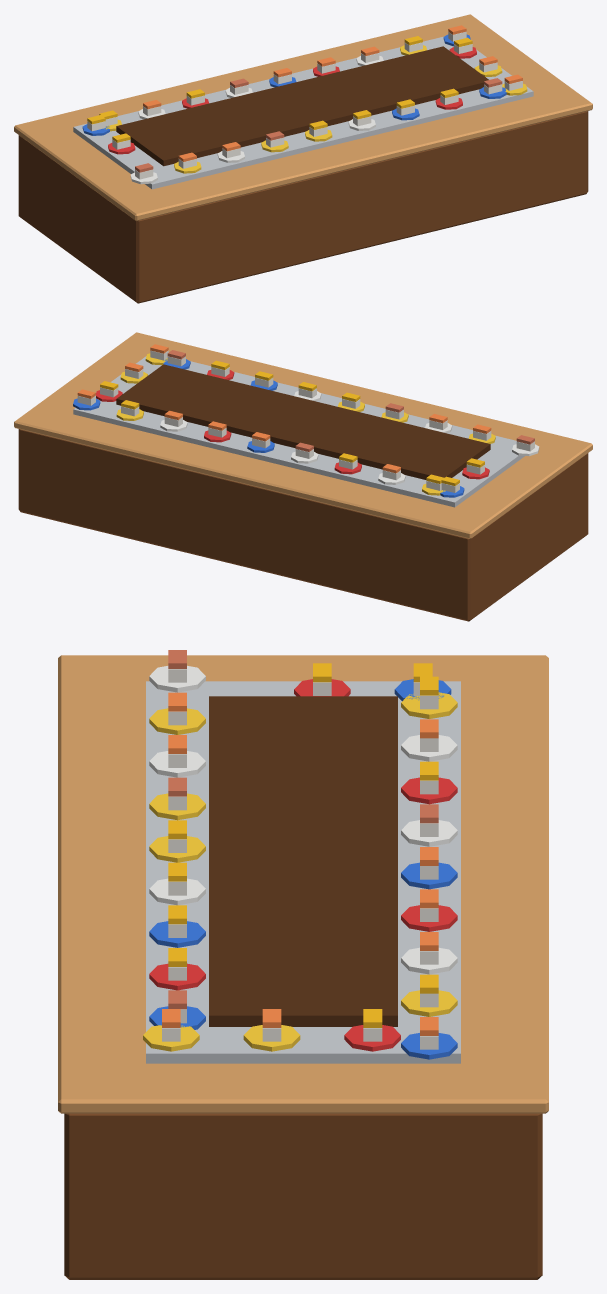
The model's file is SushiConveyor.fbx.
3 views of the same model, one above another, from view 1: azimuth 30°, elevation 25°; view 2: azimuth 150°, elevation 25°; view 3: azimuth 270°, elevation 25° (orthographic). The views are drawn at different scales.
Parts seen in each view (by area): view 1: SushiConveyor; view 2: SushiConveyor; view 3: SushiConveyor.
Part boxes in pixels (bbox=[...]): SushiConveyor: bbox=[14, 14, 592, 303]; SushiConveyor: bbox=[14, 332, 592, 621]; SushiConveyor: bbox=[58, 650, 548, 1279].
Bounding box in the file's own units: 16.8 × 3.83 × 7.8.
1 material, 1 textured.
